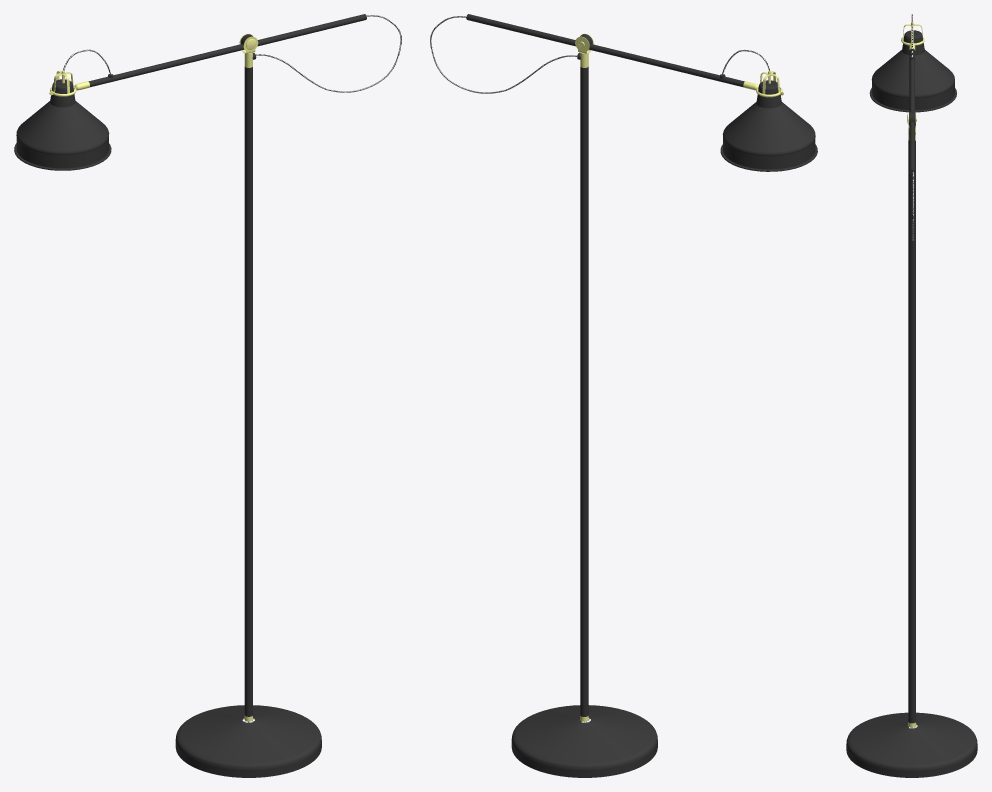
File: lamp_2.glb
3 renders of one model, left to right at view 1: azimuth 30°, elevation 25°; view 2: azimuth 150°, elevation 25°; view 3: azimuth 270°, elevation 25°, orthographic. The views are drawn at different scales.
Parts seen in each view (by area): view 1: IKE160142; view 2: IKE160142; view 3: IKE160142.
Boxes of the visible parts, x1,y1,x2,y2 form: IKE160142: [14, 14, 401, 777]; IKE160142: [430, 14, 817, 777]; IKE160142: [846, 14, 977, 777].
Bounding box in the file's own units: 847 × 1564 × 281.
3 materials, 1 textured.
